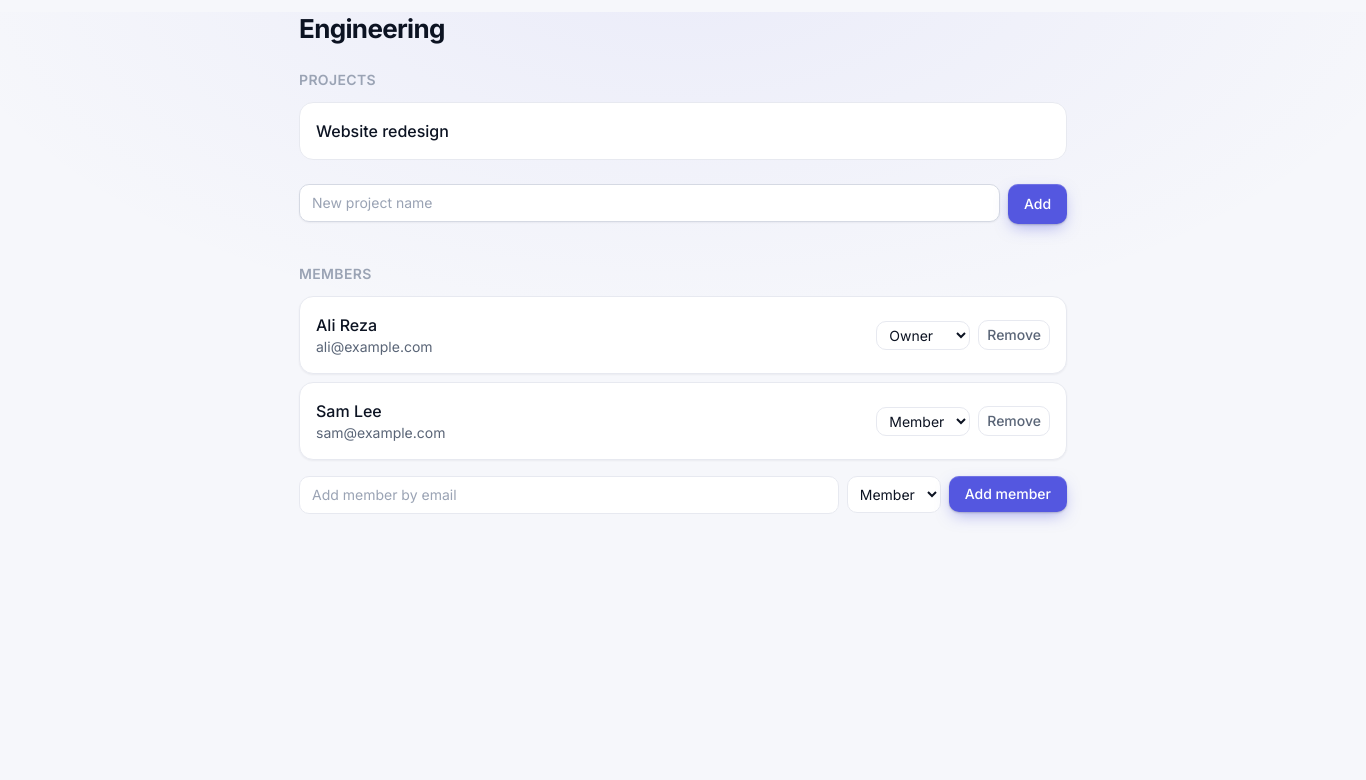
Test: TeamPage › removes a member
The image size is (1366, 780).
Expected: the list item "Sam Lee" is shown, [316, 401, 382, 421]
Click the button "Remove" in the row of "Sam Lee": (1014, 421) [978, 406, 1050, 436]
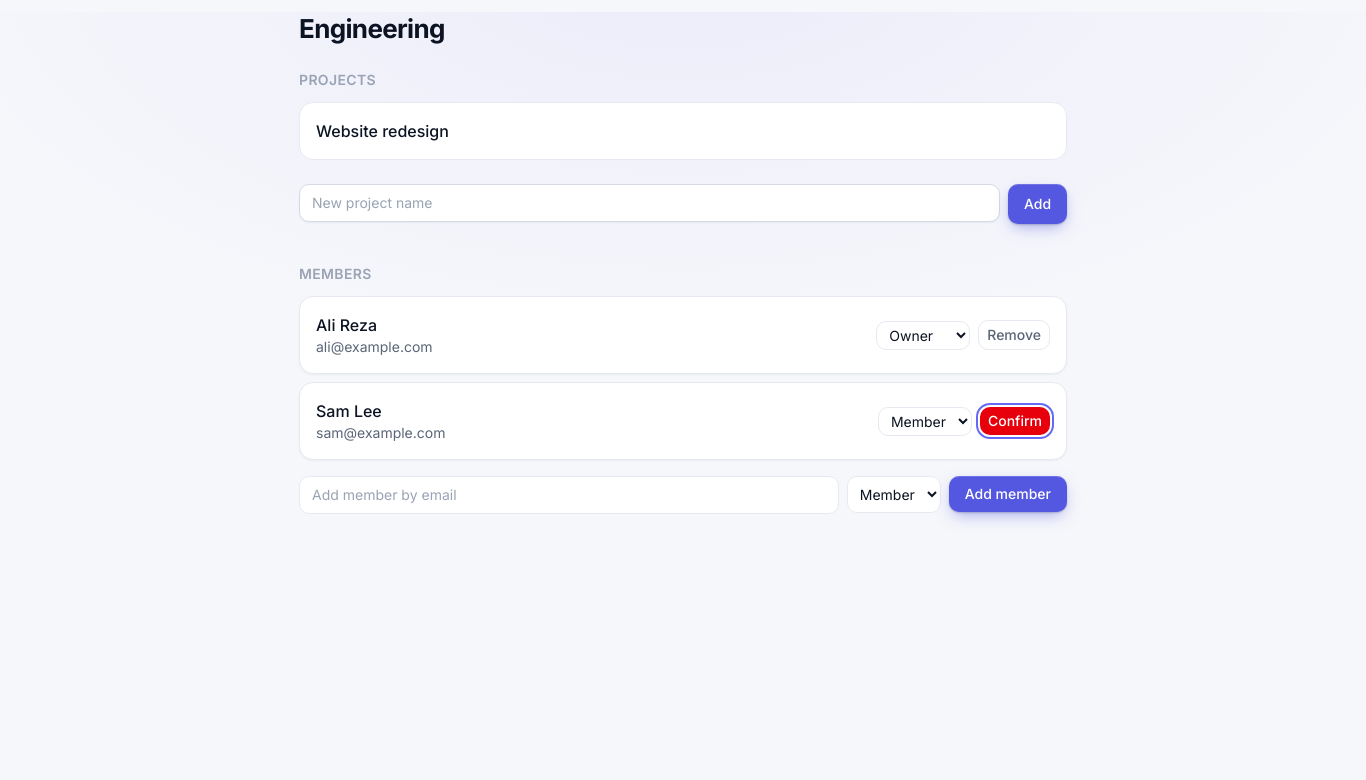
Click the button "Confirm": (1015, 421) [980, 407, 1050, 435]
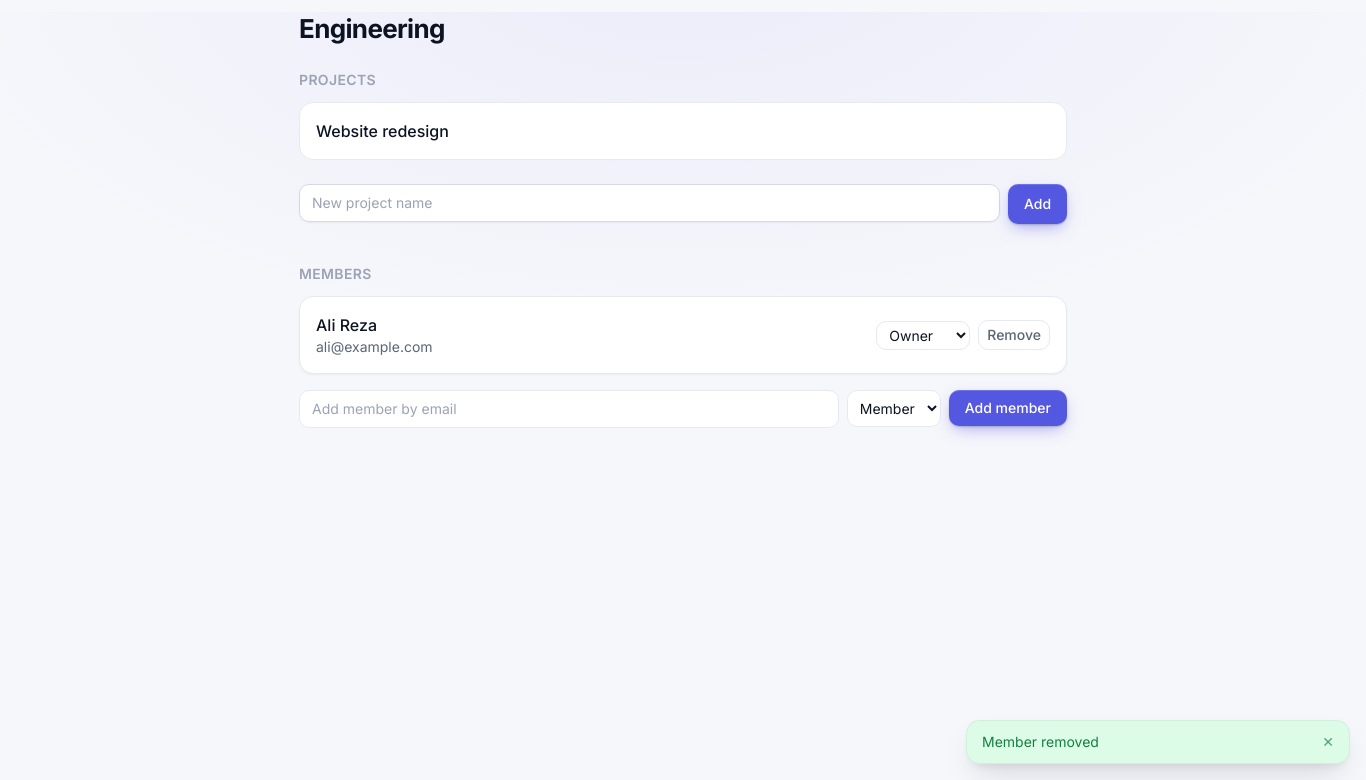
Result: the text "Sam Lee" is gone
